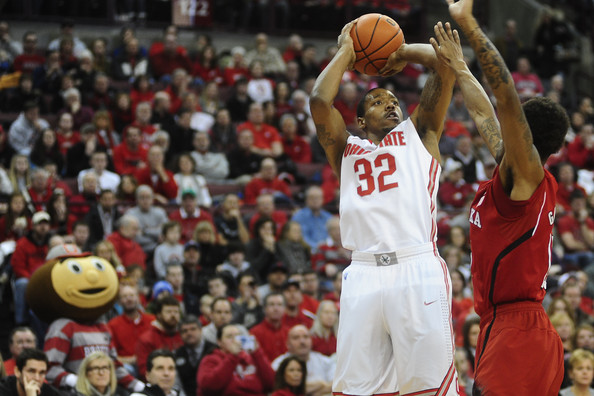Basketball: (348, 12, 408, 77)
